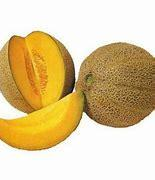Melon Ripe: (79, 41, 155, 128), (0, 30, 76, 109), (0, 92, 84, 150)
